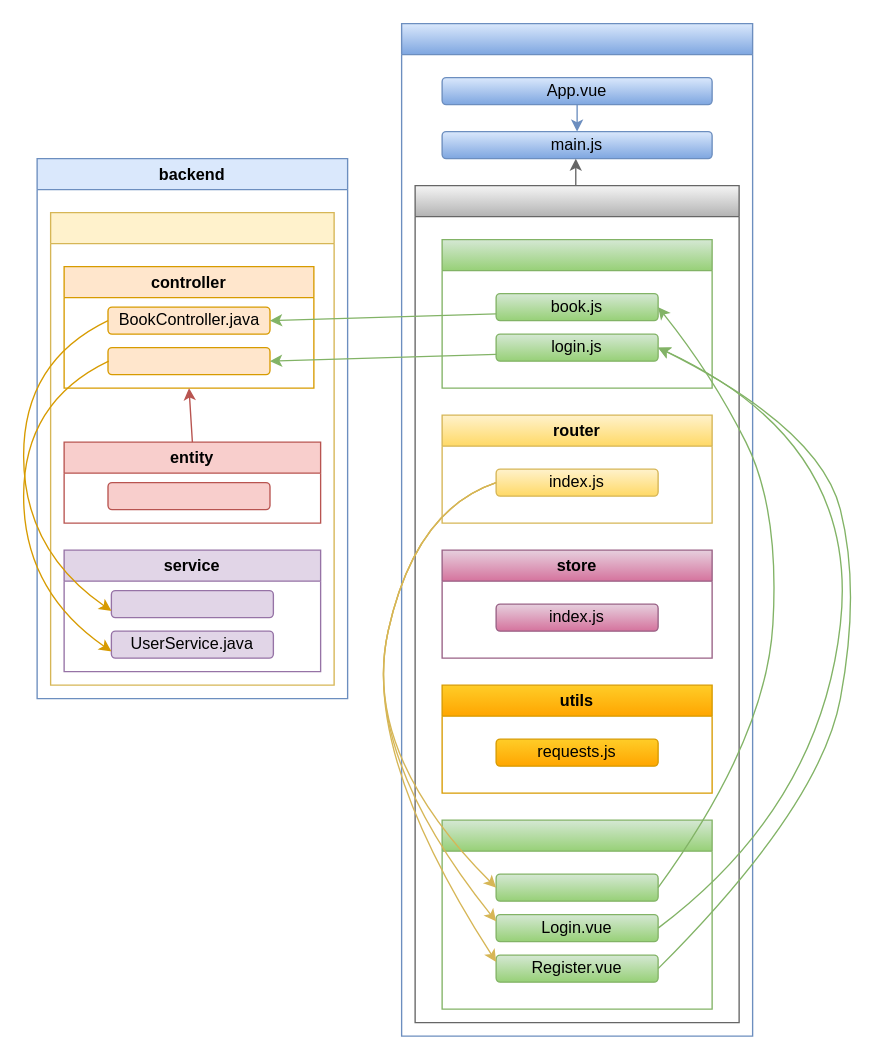
The diagram is 875 pixels wide and 1060 high, and some of its shapes have lost their labels. The shapes that lost their labels are listed below. From the top down, each one's box as (x1, y1, x2, y2) in pixels, then its label:
(441, 238, 712, 388): api
(107, 346, 270, 375): UserController.java
(49, 211, 334, 685): src/main/java
(107, 481, 270, 510): Result.java
(400, 22, 753, 1036): frontend
(110, 589, 273, 618): BookService.java
(414, 184, 739, 1023): src
(495, 873, 658, 901): Home.vue
(441, 819, 712, 1009): Vertical Container
